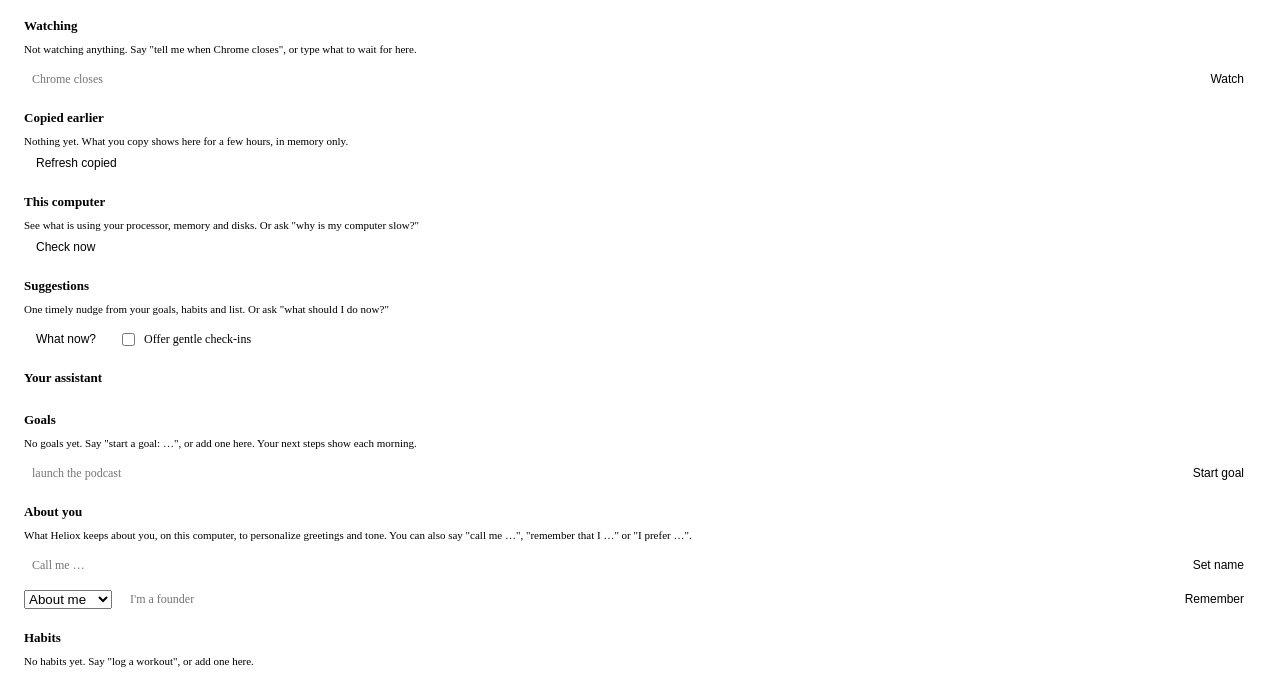
Test: TodayPanel › fetches a suggestion on demand
(page scrolled)
Step 1. Click the button "What now?" → [66, 339], box 24,326 -> 108,352
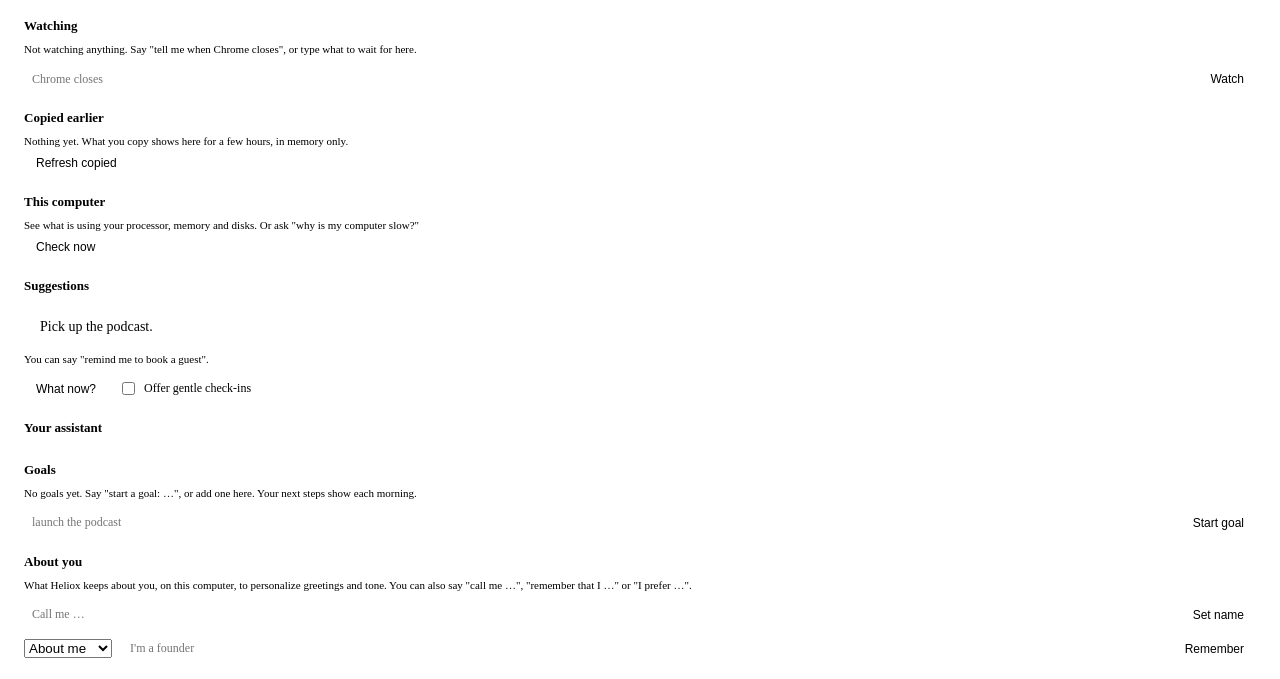
Now the text "Pick up the podcast." is shown, box 40,319 -> 153,334
Now the text "You can say \"remind me to book a guest\"." is shown, box 24,353 -> 209,365
